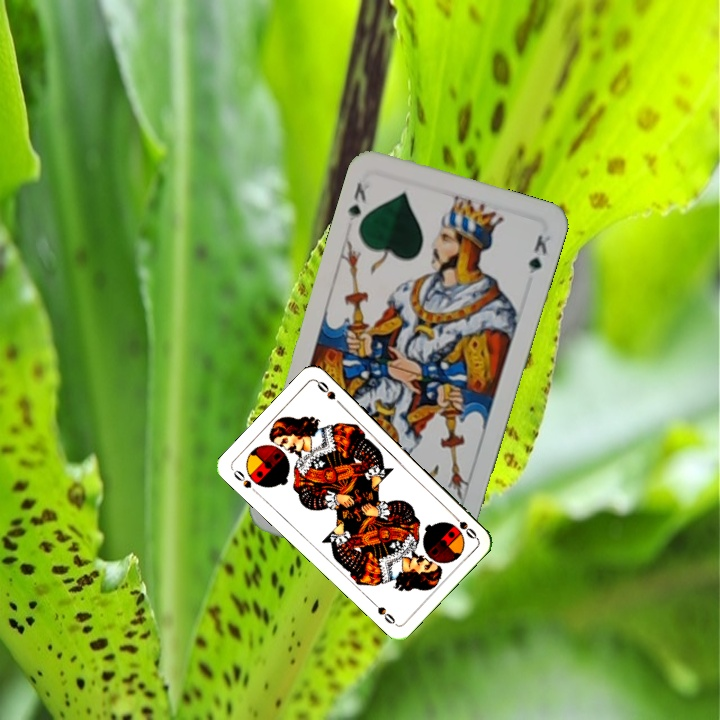GK: (344, 178, 369, 225)
SO: (447, 509, 479, 541), (228, 466, 261, 497)
